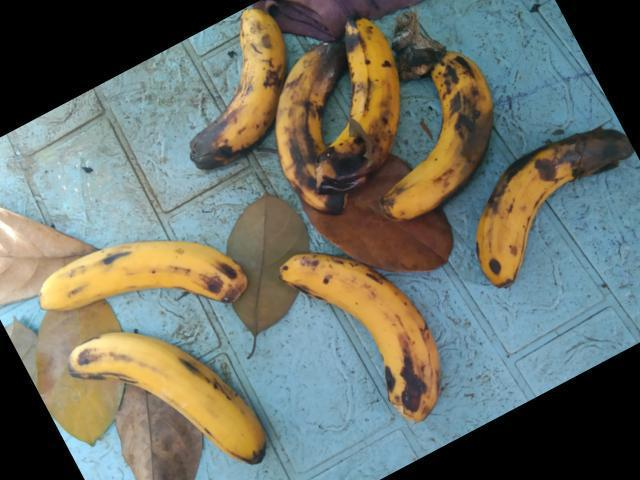overripe: (276, 246, 454, 454)
ripe: (59, 323, 269, 475), (23, 222, 255, 319)
rotten: (468, 123, 629, 292), (359, 46, 499, 237), (167, 0, 298, 187), (251, 30, 359, 231), (322, 0, 405, 197)
